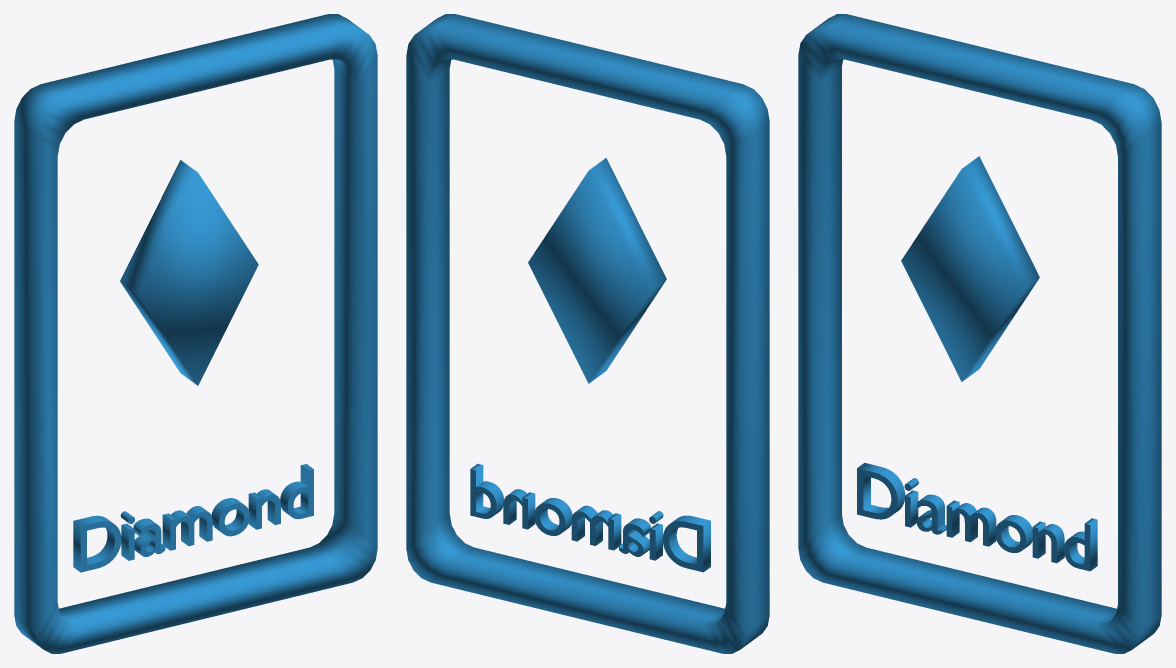
The model's file is Shape_Diamond.gltf.
3 renders of one model, left to right at view 1: azimuth 30°, elevation 25°; view 2: azimuth 150°, elevation 25°; view 3: azimuth 330°, elevation 25°, orthographic.
Visible parts, largest first — view 1: Text.013; view 2: Text.013; view 3: Text.013.
Boxes of the visible parts, left/top/right/bottom form: Text.013: left=14, top=14, right=377, bottom=653; Text.013: left=406, top=14, right=769, bottom=653; Text.013: left=798, top=14, right=1161, bottom=653.
Size of the model in its own units: 1 by 1.56 by 0.1143.
